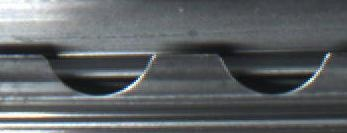twou: (47, 43, 307, 104)
